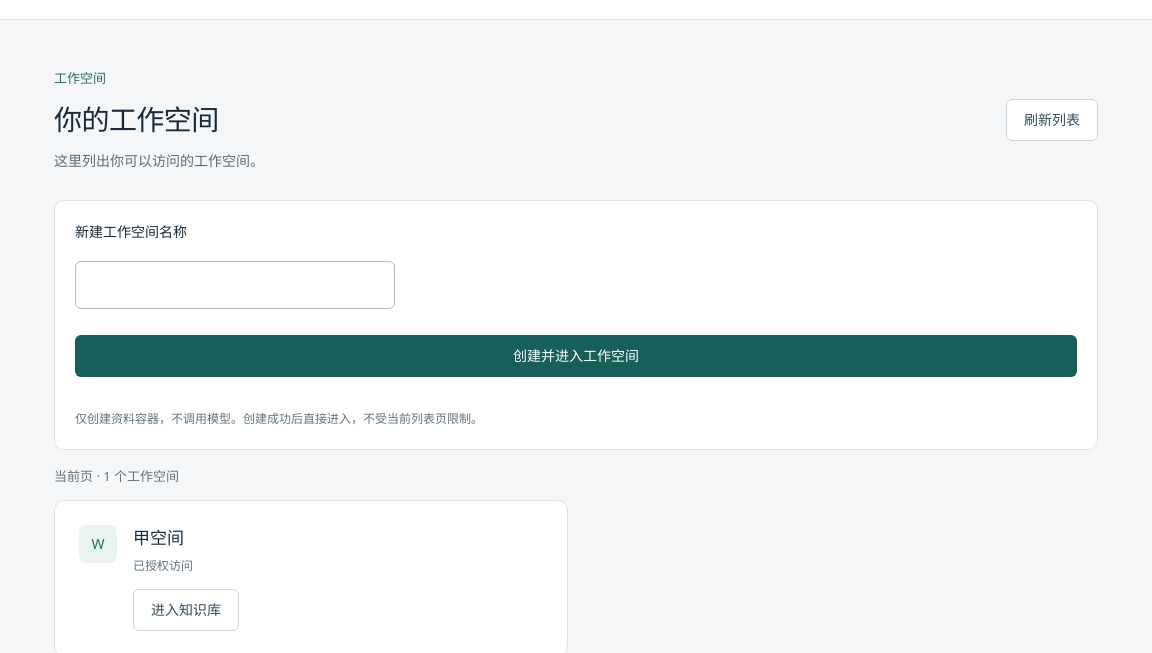
Test: 独立引用问答页的排错编号 › 缺失或非法响应头 not-a-uuid 不显示编号，也不从错误正文补取
The image size is (1152, 653).
Click the button with aria-label "进入甲空间" at (186, 610), box x1=133 y1=589 x2=239 y2=631
(page scrolled)
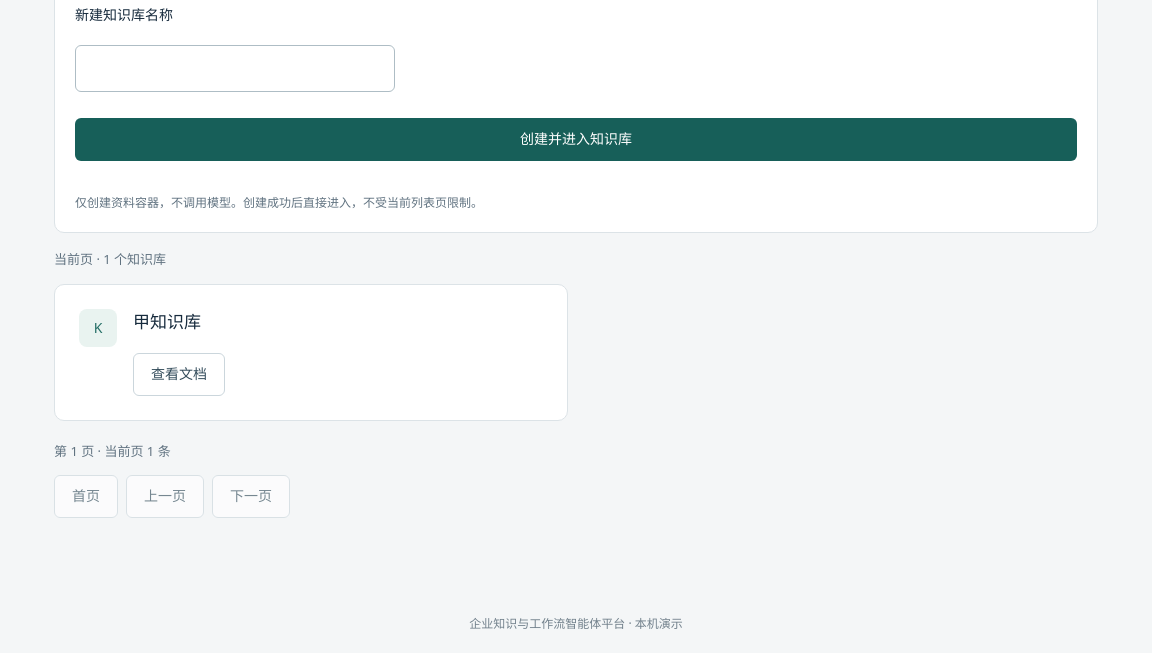
Click the button with aria-label "查看甲知识库的文档" at (179, 374), box x1=133 y1=353 x2=225 y2=396
(page scrolled)
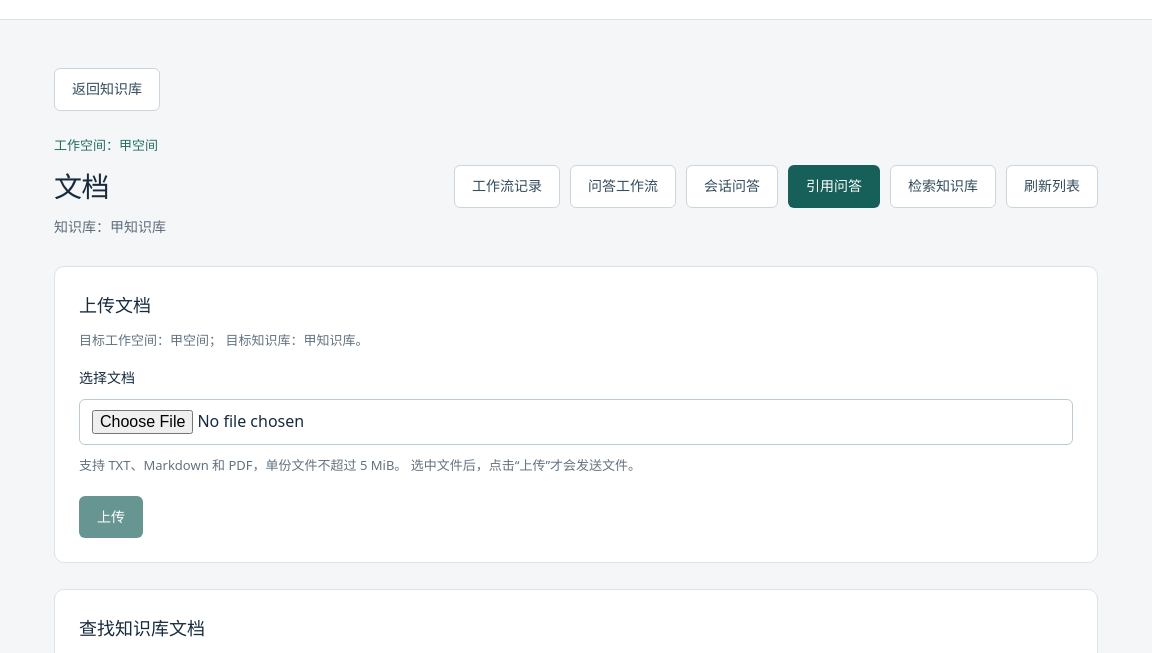
Click the button "引用问答" at (834, 187), box x1=788 y1=165 x2=880 y2=208
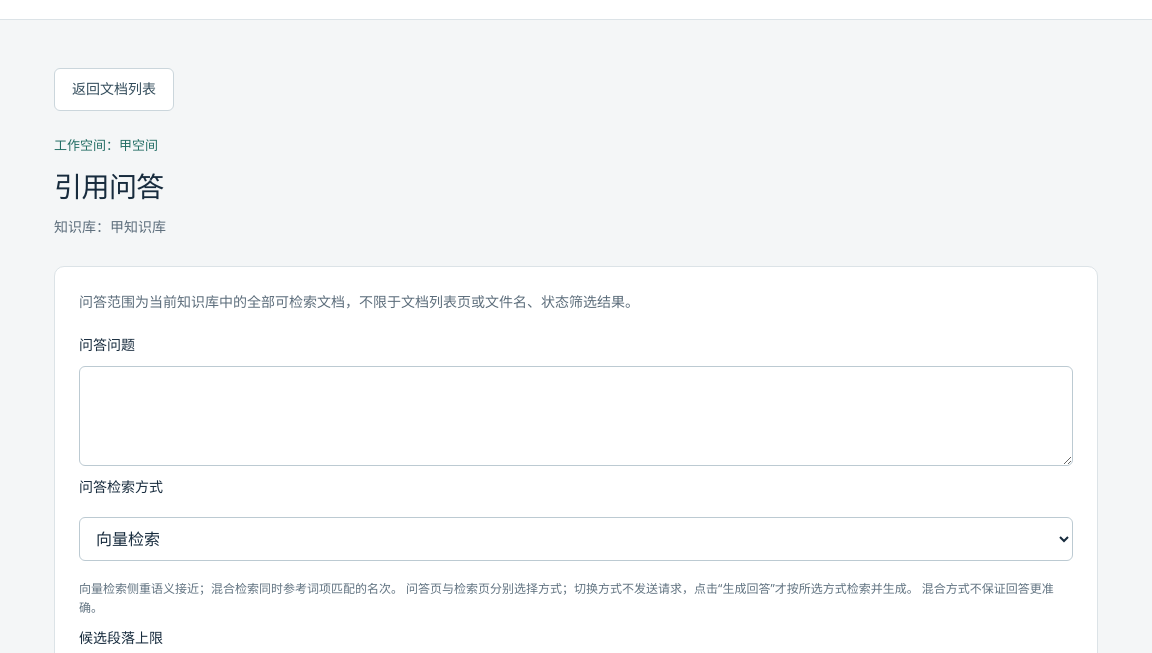
Type "导出条目包含什么？" into the text box labelled "问答问题" at (576, 416), box x1=79 y1=366 x2=1073 y2=466
(page scrolled)
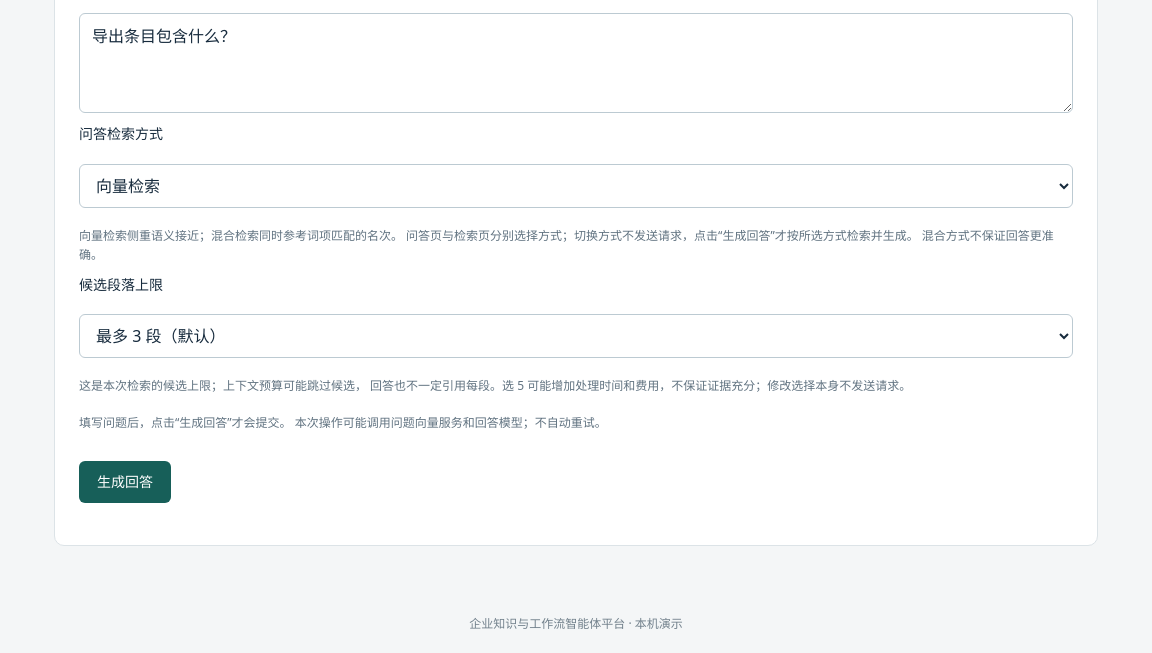
Click the button "生成回答" at (125, 482), box x1=79 y1=461 x2=171 y2=503
(page scrolled)
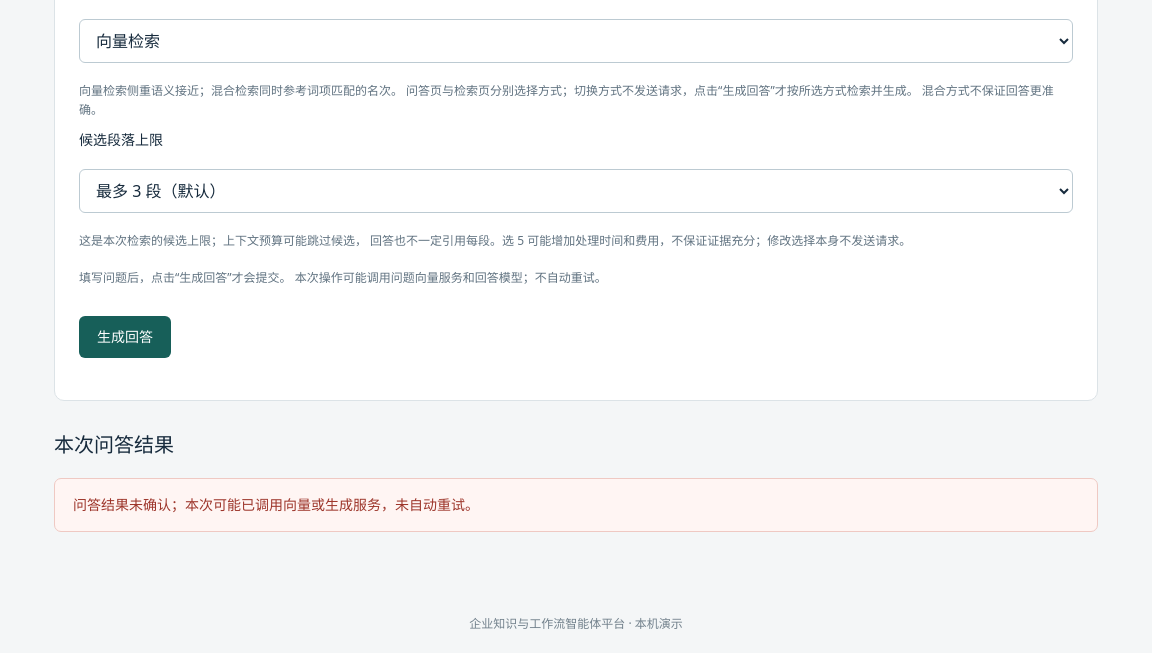
Result: the message "问答结果未确认；本次可能已调用向量或生成服务，未自动重试。" is shown at x1=54 y1=478 x2=1098 y2=532
